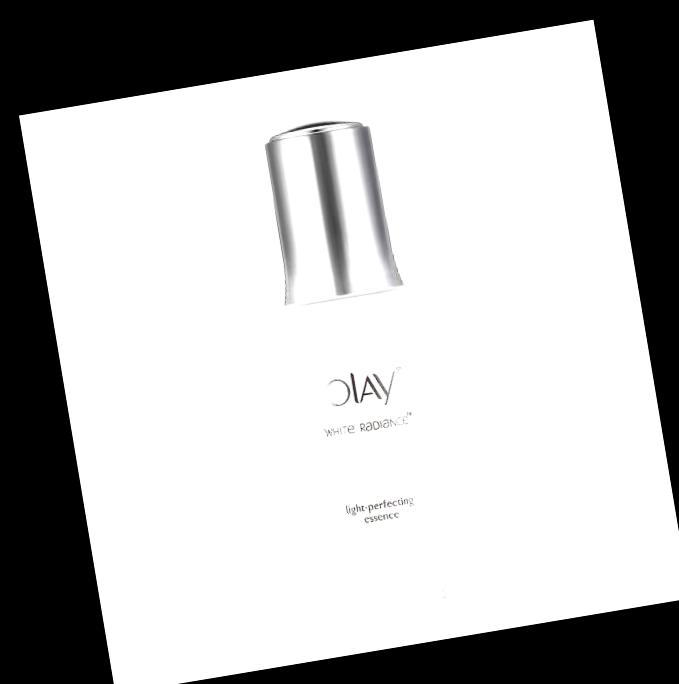cosmetic: (252, 110, 456, 610)
